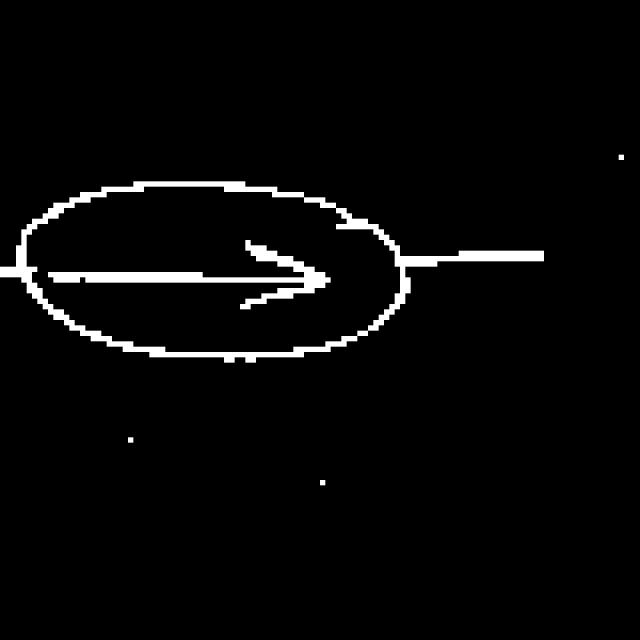current_source: (5, 159, 431, 395)
